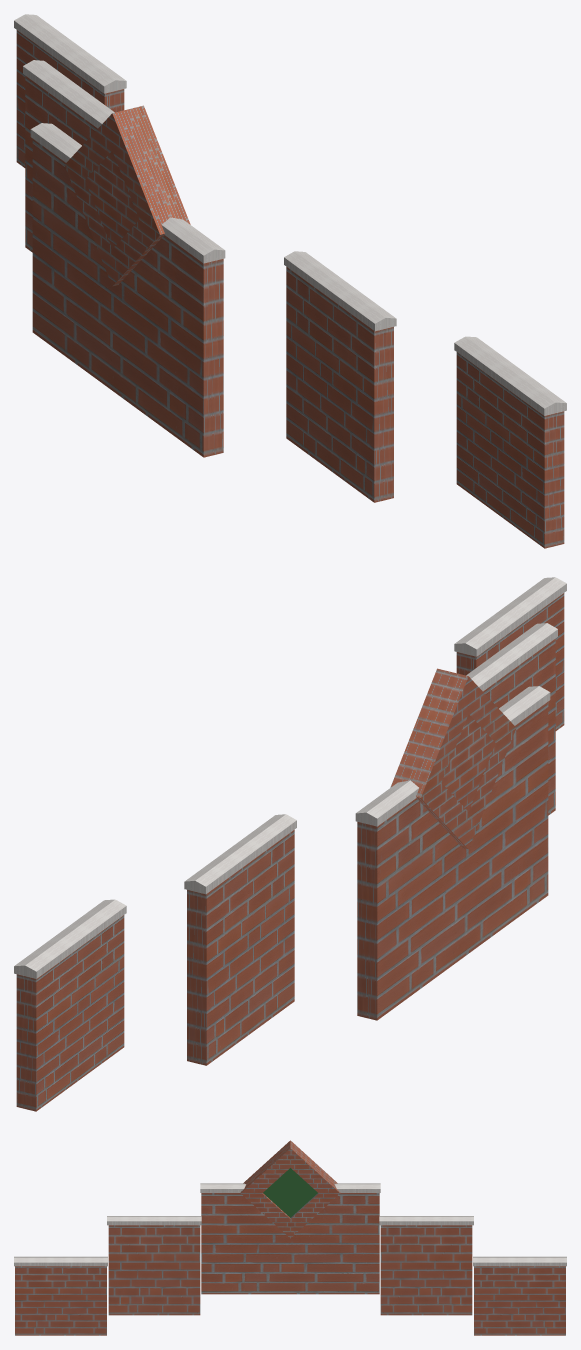
File: stone.glb
3 views of the same model, one above another, from view 1: azimuth 30°, elevation 25°; view 2: azimuth 150°, elevation 25°; view 3: azimuth 270°, elevation 25° (orthographic). The views are drawn at different scales.
Parts seen in each view (by area): view 1: 立方体.002, 立方体.003, 立方体.004, 立方体.001; view 2: 立方体.002, 立方体.003, 立方体.004, 立方体.001; view 3: 立方体.003, 立方体.002, 立方体.004, 立方体.001.
Boxes of the visible parts, bbox=[...] form: 立方体.002: bbox=[30, 123, 225, 457]; 立方体.003: bbox=[23, 60, 396, 502]; 立方体.004: bbox=[14, 14, 566, 548]; 立方体.001: bbox=[64, 105, 190, 286]; 立方体.002: bbox=[355, 686, 550, 1020]; 立方体.003: bbox=[184, 623, 557, 1065]; 立方体.004: bbox=[14, 577, 566, 1111]; 立方体.001: bbox=[390, 668, 516, 849]; 立方体.003: bbox=[107, 1216, 473, 1315]; 立方体.002: bbox=[200, 1183, 380, 1294]; 立方体.004: bbox=[14, 1256, 566, 1335]; 立方体.001: bbox=[240, 1140, 340, 1238].
Bounding box in the file's own units: 5.73 × 8.18 × 27.77.
Materials: 3 (2 with a texture image).
